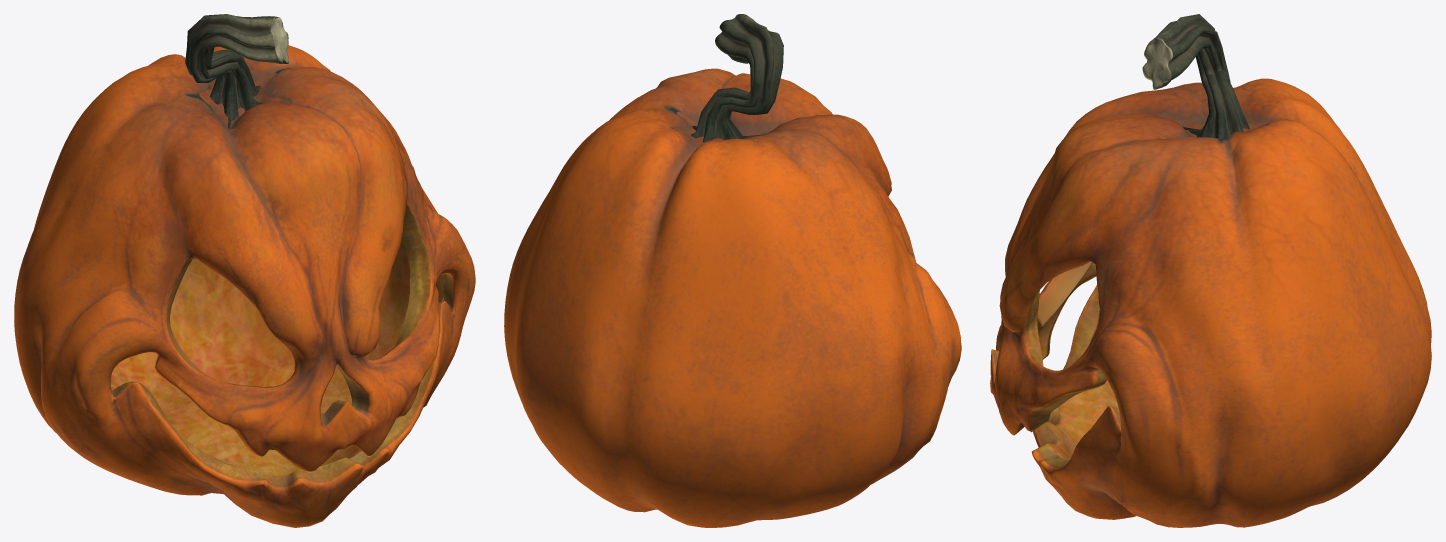
The model's file is Pumpkin.glb.
3 views of the same model, side by side, from view 1: azimuth 30°, elevation 25°; view 2: azimuth 150°, elevation 25°; view 3: azimuth 270°, elevation 25° (orthographic).
Visible parts, largest first — view 1: Object_2, Object_3; view 2: Object_2, Object_3; view 3: Object_2, Object_3.
Part boxes in pixels (box(x1,y1,x2,y2)): Object_2: box(14, 45, 475, 527); Object_3: box(185, 14, 288, 128); Object_2: box(504, 68, 961, 527); Object_3: box(690, 14, 783, 142); Object_2: box(990, 78, 1431, 527); Object_3: box(1142, 14, 1249, 139).
Size of the model in its own units: 73.26 by 82.1 by 68.4.
2 materials, 2 textured.
